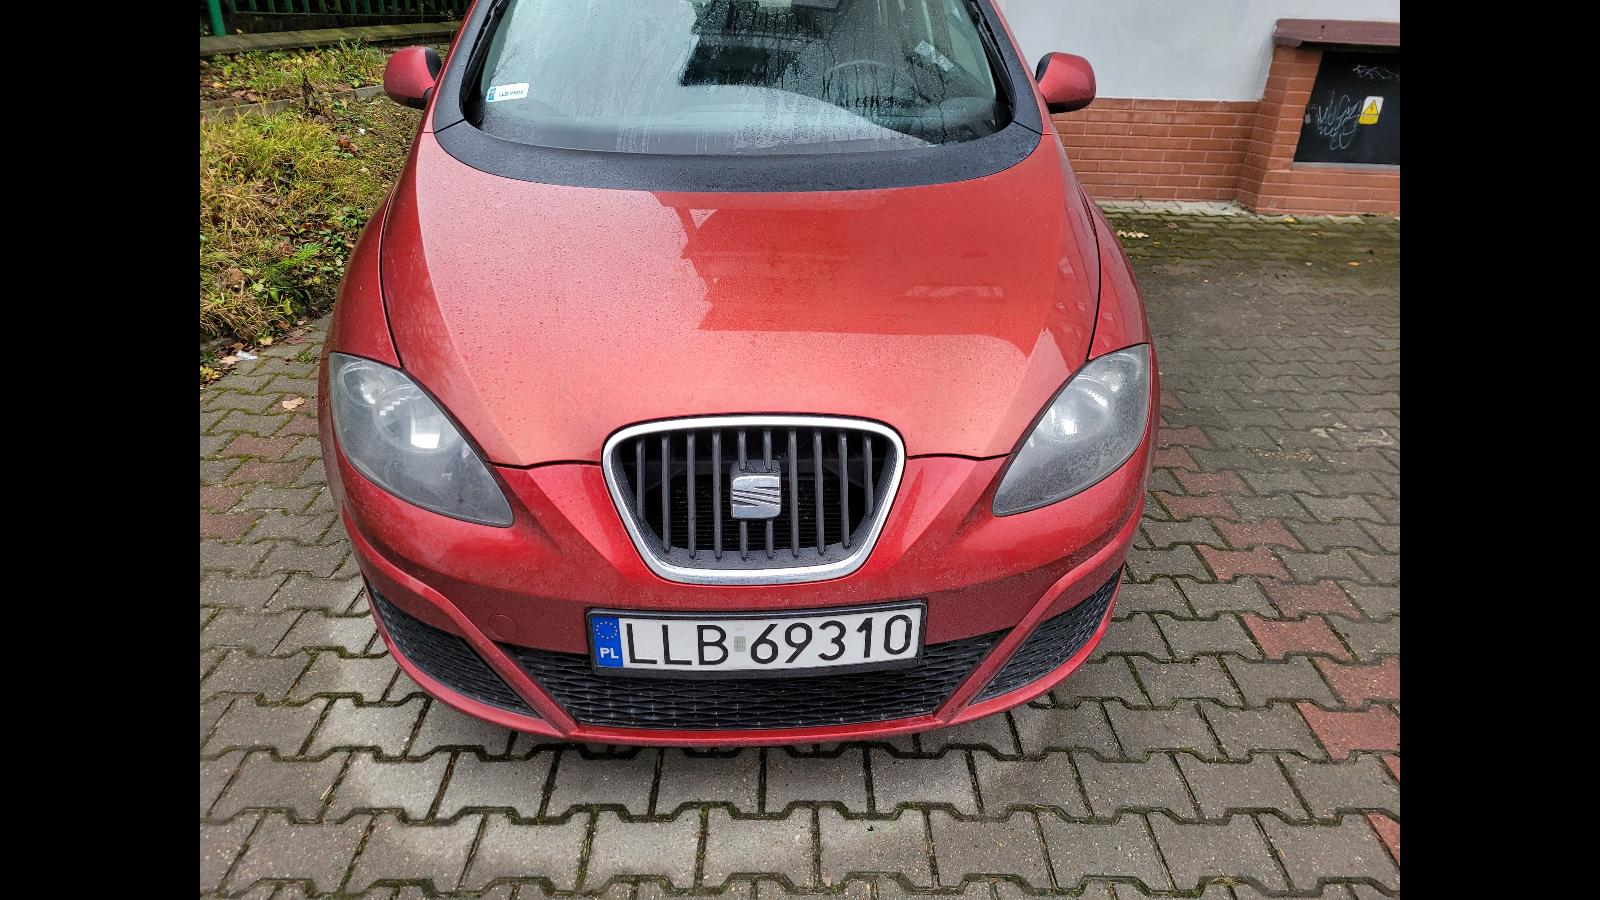plates: (586, 601, 928, 681)
